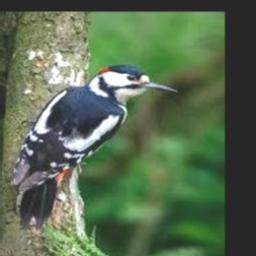Woodpecker: (9, 64, 177, 229)
